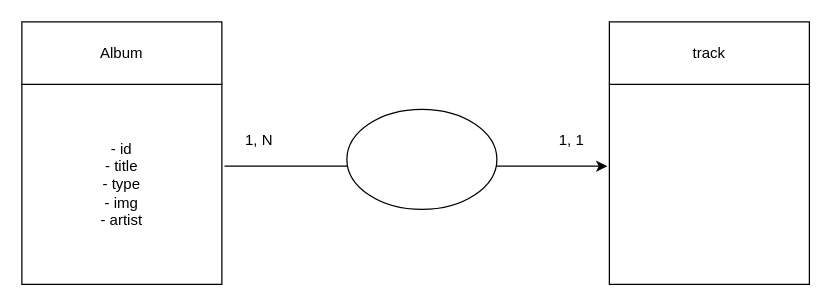
Image size: 831x306. Some labels were removed from this diagram. Each missing label, with the centre of its shape:
"- id - title - url" goes at point 708,183.
"belong" goes at point 421,158.
